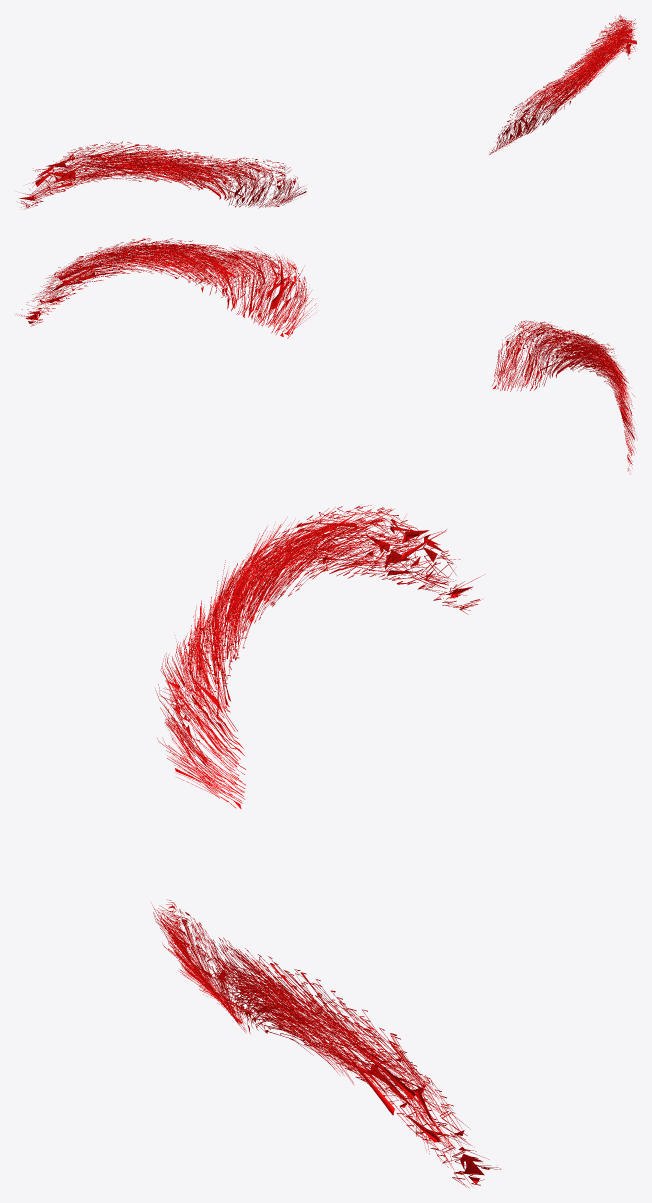
Rendered from mindfront_eyebrows_12_F.glb.
3 views of the same model, one above another, from view 1: azimuth 30°, elevation 25°; view 2: azimuth 150°, elevation 25°; view 3: azimuth 270°, elevation 25° (orthographic). The views are drawn at different scales.
Size of the model in its own units: 0.1241 by 0.0161 by 0.0308.
Materials: 1 (1 with a texture image).
